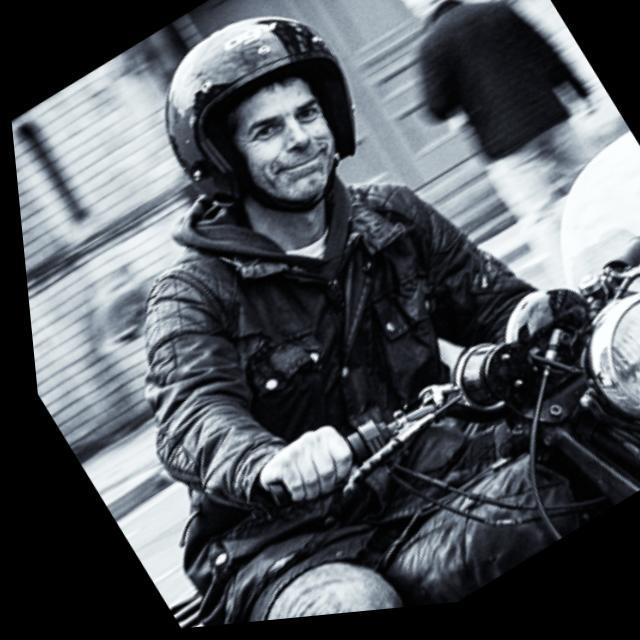Helmet: (155, 5, 365, 222)
